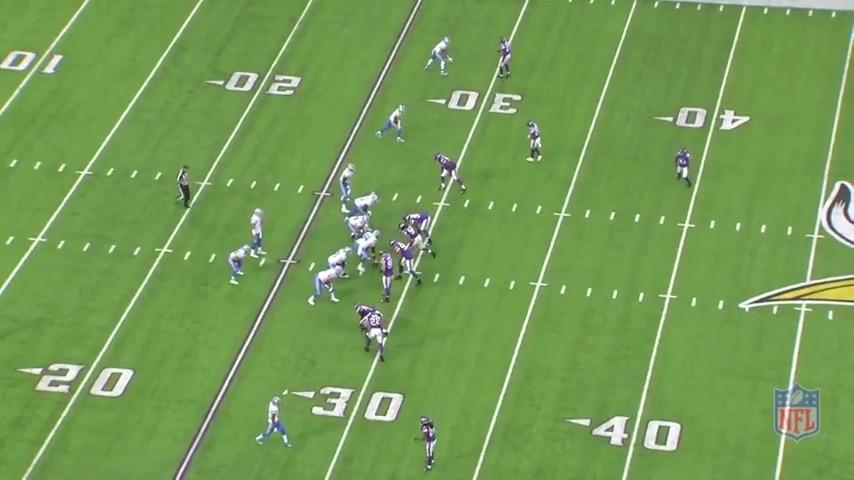player: (255, 393, 298, 453), (360, 306, 391, 366), (390, 238, 423, 288), (308, 266, 346, 309), (431, 152, 467, 196), (373, 103, 409, 146), (399, 221, 436, 261), (376, 244, 400, 303), (422, 35, 454, 79), (354, 228, 384, 273), (419, 414, 440, 474), (348, 192, 381, 230), (354, 304, 390, 337), (339, 161, 361, 213), (230, 242, 254, 288), (247, 206, 267, 259), (523, 117, 545, 165), (402, 210, 435, 242), (672, 146, 694, 190), (324, 245, 350, 281), (349, 211, 376, 243), (497, 34, 515, 81)
ref: (178, 162, 195, 212)
